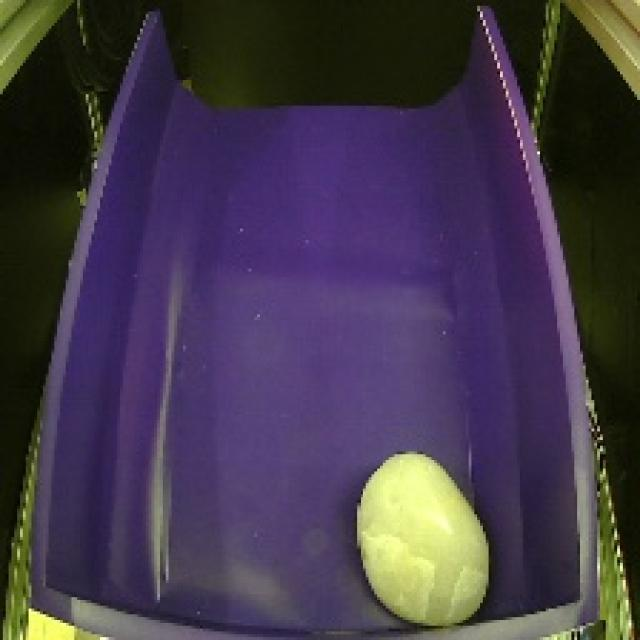cobbles: (332, 444, 516, 635)
